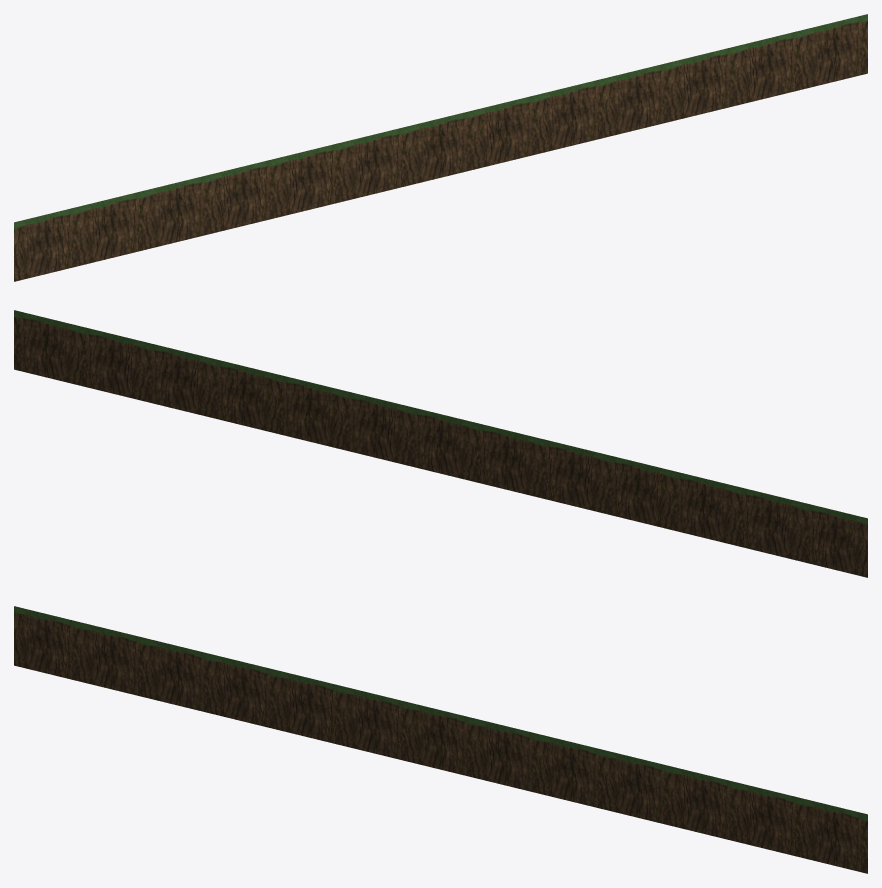
The model's file is Wall.obj.
3 renders of one model, top to bottom at view 1: azimuth 30°, elevation 25°; view 2: azimuth 150°, elevation 25°; view 3: azimuth 330°, elevation 25°, orthographic.
Visible parts, largest first — view 1: Plane; view 2: Plane; view 3: Plane.
Boxes of the visible parts, x1=… form: Plane: x1=14, y1=14, x2=867, y2=281; Plane: x1=14, y1=310, x2=867, y2=577; Plane: x1=14, y1=606, x2=867, y2=873.
Size of the model in its own units: 1950 by 130 by 0.
1 material, 1 textured.
